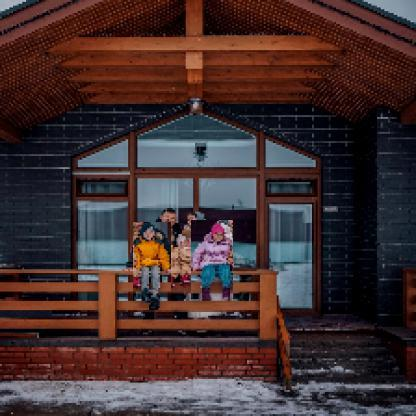child: (192, 221, 235, 303), (134, 223, 173, 312), (164, 234, 200, 288)
